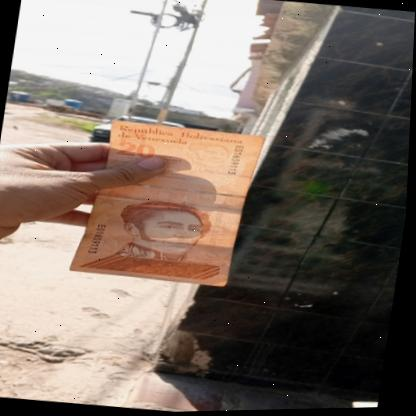twenty-front-vef: (70, 114, 267, 293)
